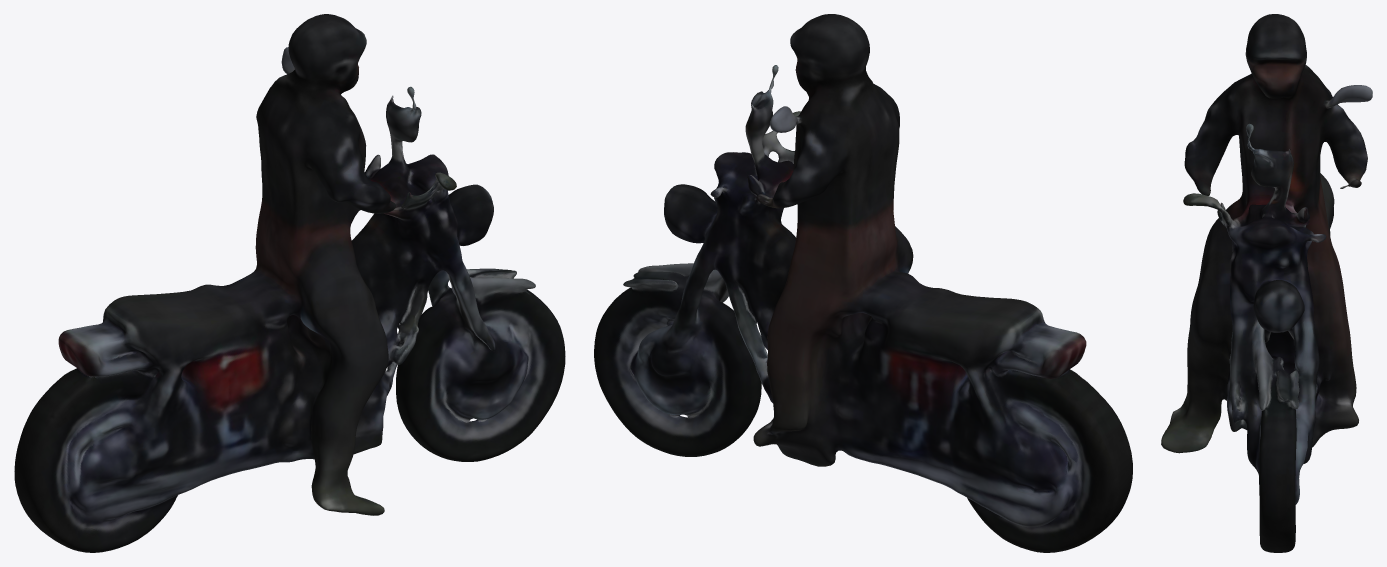
The model's file is aa27ba03cc01_motorcycle_and_rider__3d_ass_0_glb.glb.
3 renders of one model, left to right at view 1: azimuth 30°, elevation 25°; view 2: azimuth 150°, elevation 25°; view 3: azimuth 270°, elevation 25°, orthographic. The views are drawn at different scales.
Visible parts, largest first — view 1: world; view 2: world; view 3: world.
Part boxes in pixels (x1,y1,x2,y2): world: (14,14,565,552); world: (594,14,1132,552); world: (1161,14,1372,552).
Size of the model in its own units: 0.5233 by 0.4461 by 0.1874.
1 material, 1 textured.
